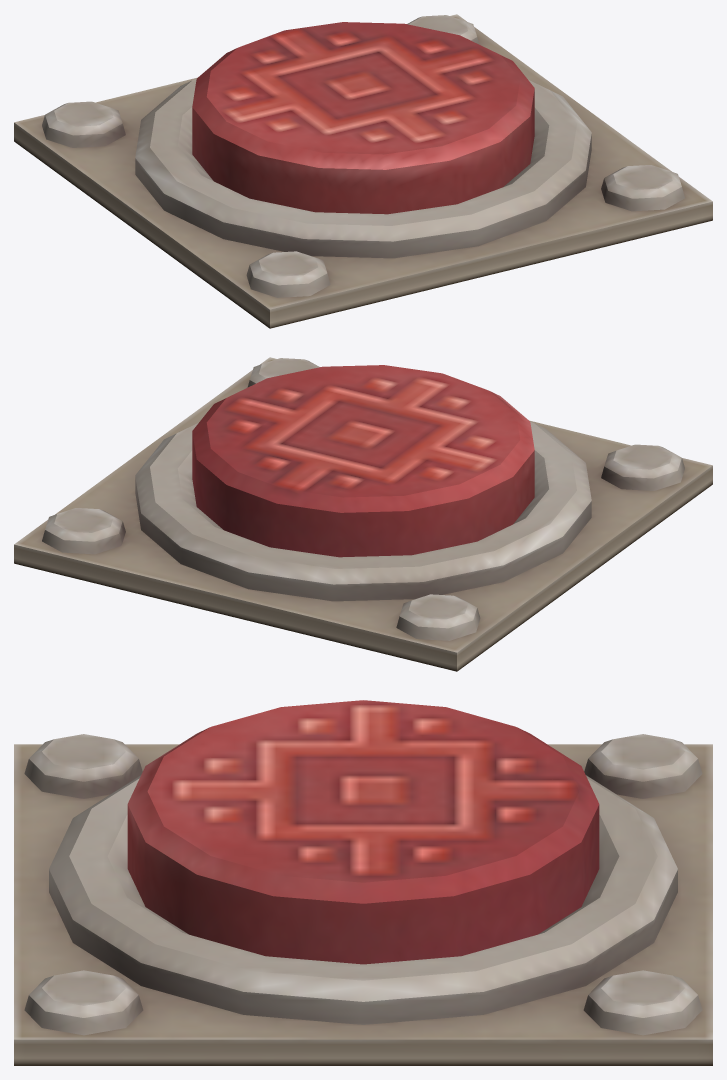
File: Floor Sswitch Red 1.fbx
3 renders of one model, top to bottom at view 1: azimuth 30°, elevation 25°; view 2: azimuth 150°, elevation 25°; view 3: azimuth 270°, elevation 25°, orthographic. The views are drawn at different scales.
Parts seen in each view (by area): view 1: box, switch1; view 2: box, switch1; view 3: box, switch1.
Boxes of the visible parts, x1=… form: box: x1=14, y1=14, x2=712, y2=328; switch1: x1=192, y1=22, x2=534, y2=214; box: x1=14, y1=357, x2=712, y2=671; switch1: x1=192, y1=365, x2=534, y2=557; box: x1=14, y1=734, x2=712, y2=1065; switch1: x1=127, y1=700, x2=599, y2=964.
Bounding box in the file's own units: 1 × 0.2 × 1.
